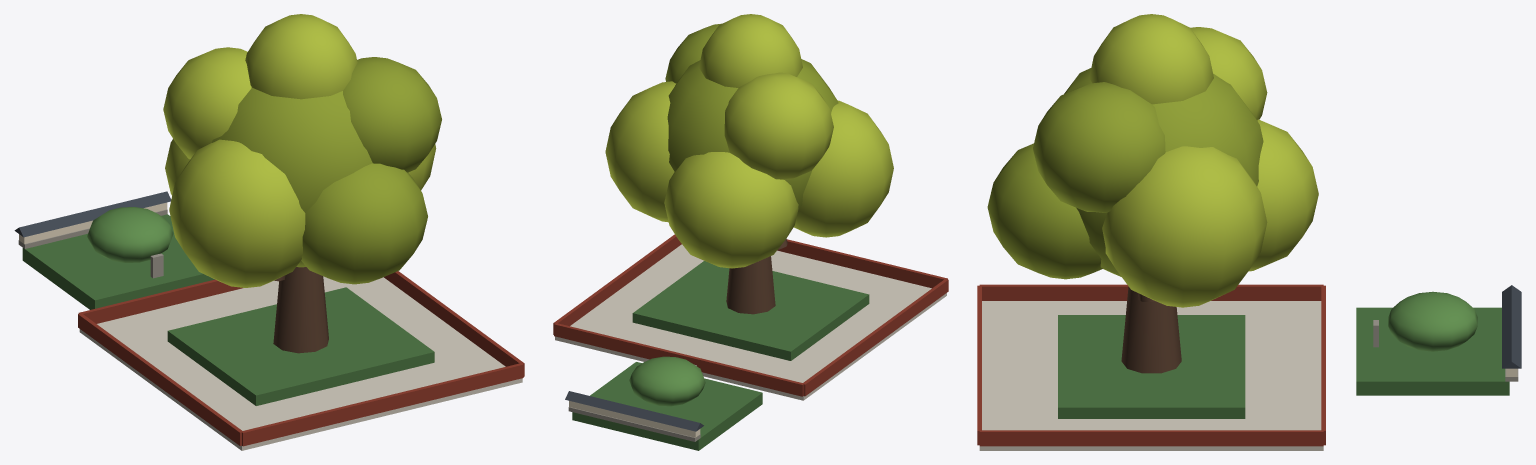
Rendered from banghak-ginkgo.glb.
3 views of the same model, side by side, from view 1: azimuth 30°, elevation 25°; view 2: azimuth 150°, elevation 25°; view 3: azimuth 270°, elevation 25° (orthographic). The views are drawn at different scales.
Bounding box in the file's own units: 22.3 × 25.32 × 34.82.
